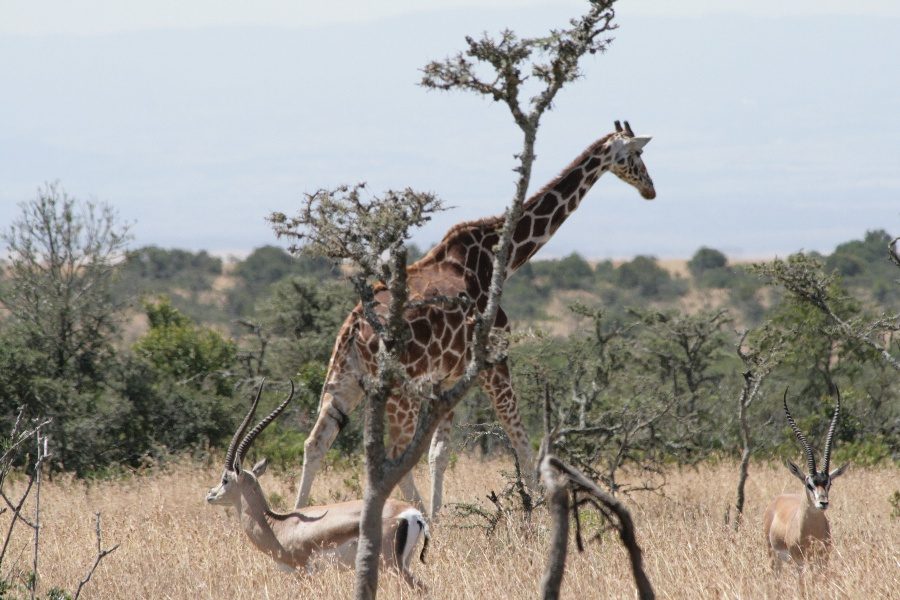giraffe: (281, 112, 662, 533)
